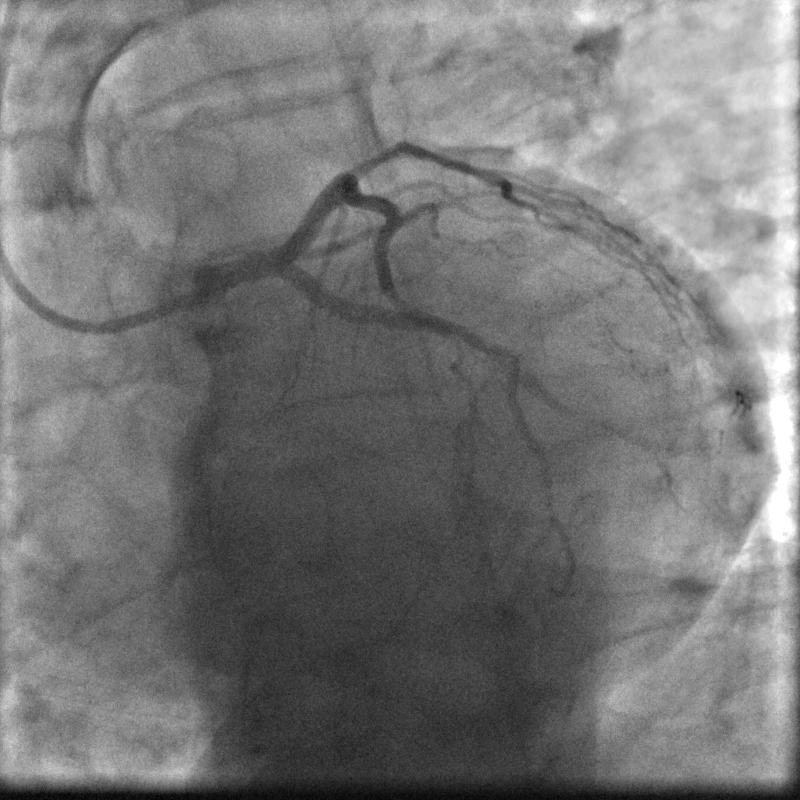Stenosis: (346, 141, 410, 173)
